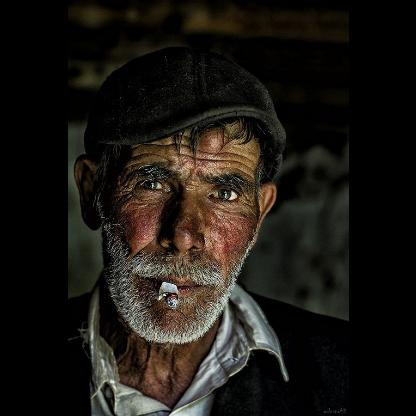Male: (76, 126, 276, 342)
